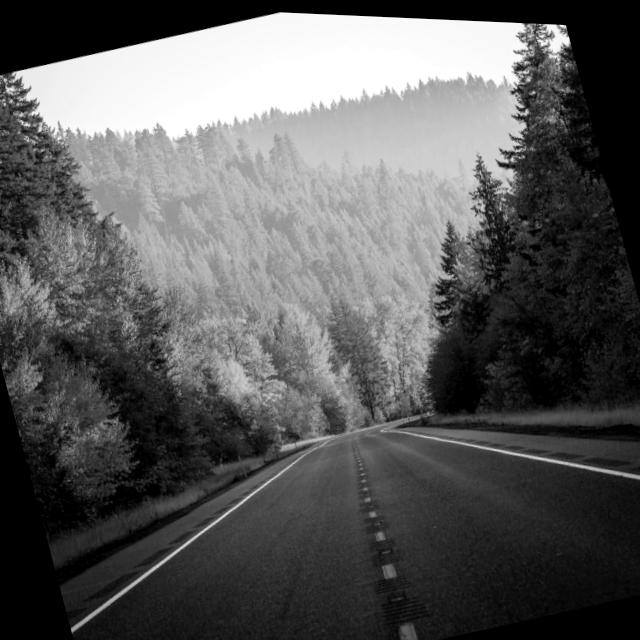cleat: (183, 246, 640, 640)
